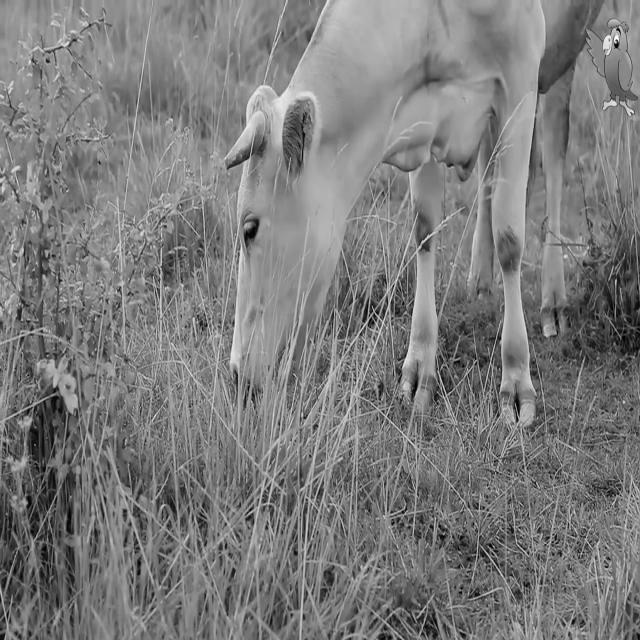cow: (225, 0, 602, 424)
